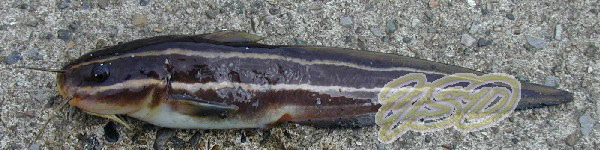gonzui: (53, 26, 568, 128)
